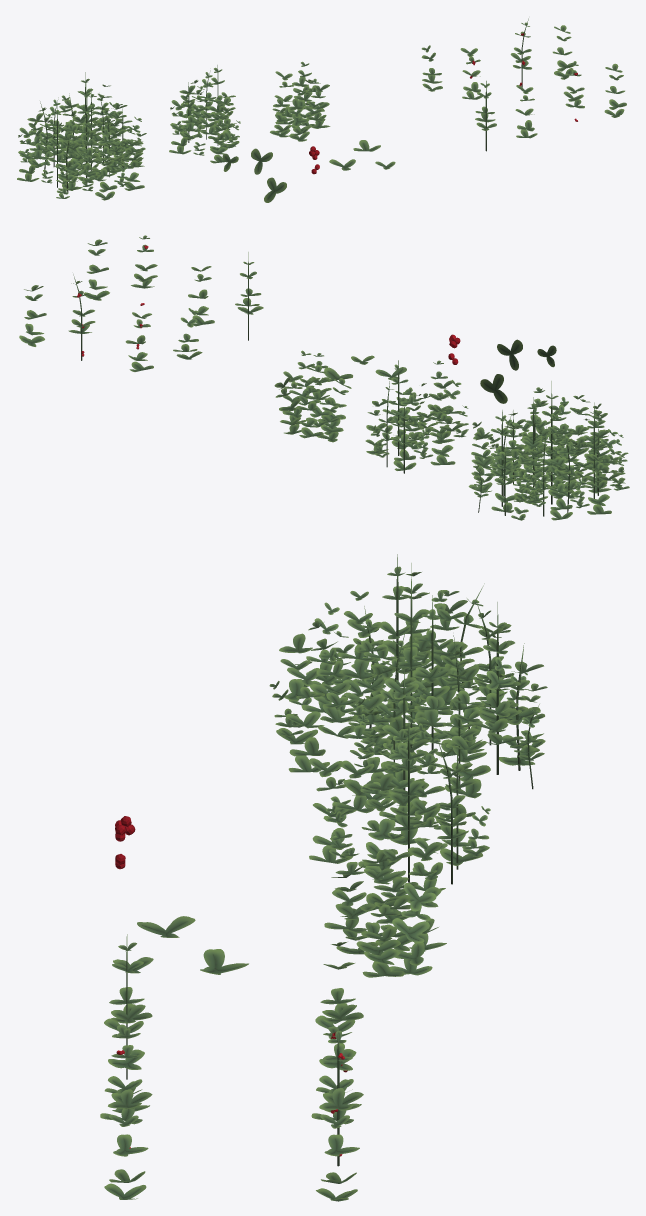
Rendered from medium_tree_03.glb.
3 views of the same model, one above another, from view 1: azimuth 30°, elevation 25°; view 2: azimuth 150°, elevation 25°; view 3: azimuth 270°, elevation 25° (orthographic). The views are drawn at different scales.
Parts seen in each view (by area): view 1: medium_tree_03; view 2: medium_tree_03; view 3: medium_tree_03.
Part boxes in pixels (<box>): medium_tree_03: <box>17,18,626,202</box>; medium_tree_03: <box>19,235,629,520</box>; medium_tree_03: <box>100,554,547,1201</box>.
Bounding box in the file's own units: 15.92 × 3 × 5.9.
Materials: 1 (1 with a texture image).
